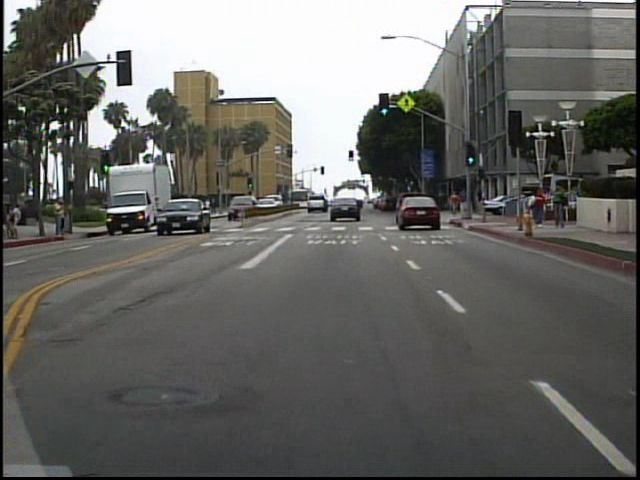person: (53, 193, 68, 238), (446, 191, 461, 218)
